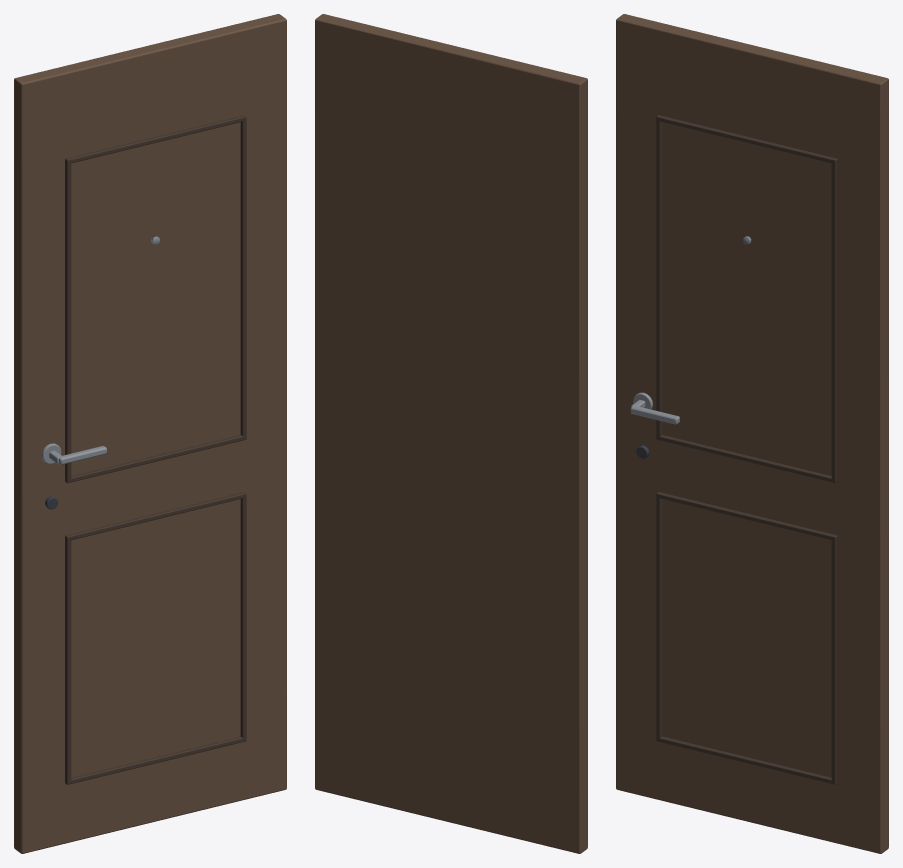
Rendered from front_door_leaf.fbx.
3 views of the same model, side by side, from view 1: azimuth 30°, elevation 25°; view 2: azimuth 150°, elevation 25°; view 3: azimuth 330°, elevation 25° (orthographic).
Visible parts, largest first — view 1: front_door_leaf; view 2: front_door_leaf; view 3: front_door_leaf.
Part boxes in pixels (x1,y1,x2,y2): front_door_leaf: (14,14,286,853); front_door_leaf: (315,14,587,853); front_door_leaf: (616,14,888,853).
Size of the model in its own units: 0.74 by 0.099 by 2.05.
